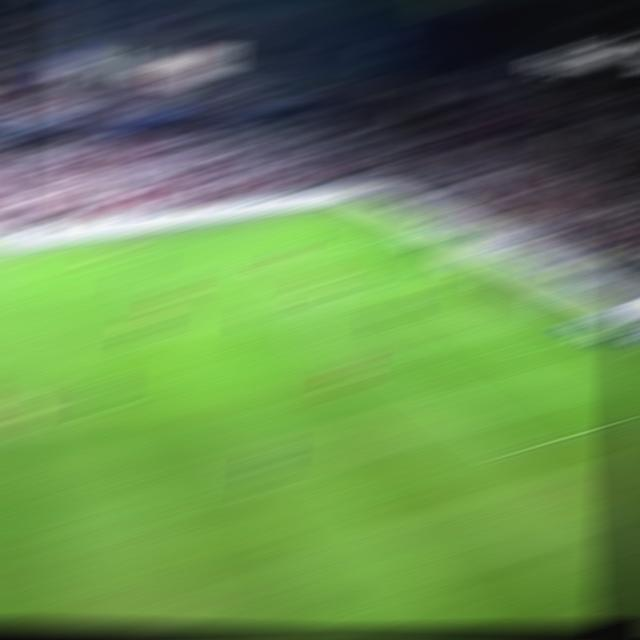bigarea_bottom_inner: (497, 444, 533, 458)
bigarea_top_inner: (257, 258, 291, 266)
bigarea_top_outter: (387, 234, 417, 237)
bottom_arc_area_intersection: (389, 362, 422, 371)
corner: (337, 205, 367, 205)
smallarea_bottom_inner: (526, 343, 558, 349)
smallarea_bottom_outter: (583, 332, 611, 334)
smallarea_top_inner: (403, 271, 434, 276)
smallarea_top_outter: (446, 263, 474, 265)
top_arc_area_intersection: (308, 297, 339, 304)
